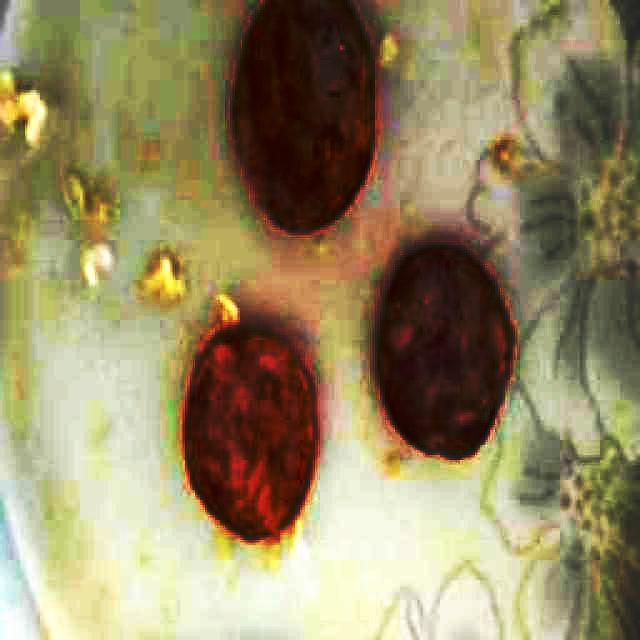chinese_sausage: (229, 0, 377, 229), (184, 326, 319, 540), (378, 245, 513, 457)
